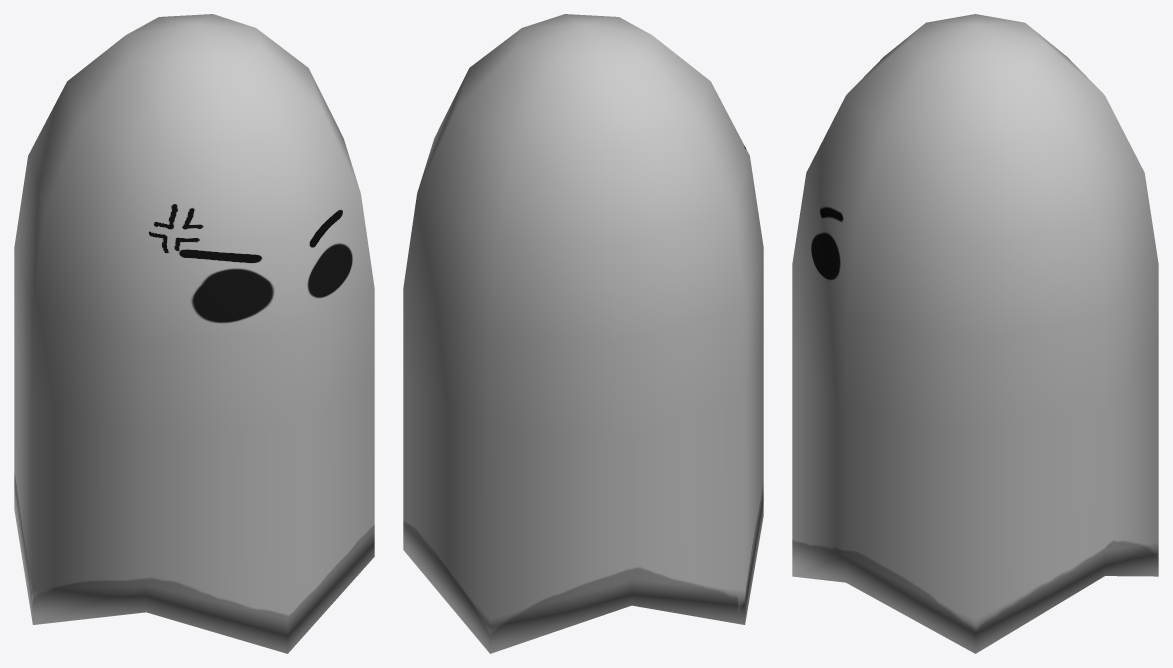
File: fantasma.fbx
3 views of the same model, side by side, from view 1: azimuth 30°, elevation 25°; view 2: azimuth 150°, elevation 25°; view 3: azimuth 270°, elevation 25° (orthographic).
Visible parts, largest first — view 1: Ghost; view 2: Ghost; view 3: Ghost.
Part boxes in pixels (x1=…): Ghost: x1=14, y1=14, x2=374, y2=653; Ghost: x1=403, y1=14, x2=763, y2=653; Ghost: x1=792, y1=14, x2=1158, y2=653.
Bounding box in the file's own units: 85.8 × 142 × 85.8.
Materials: 1 (1 with a texture image).
